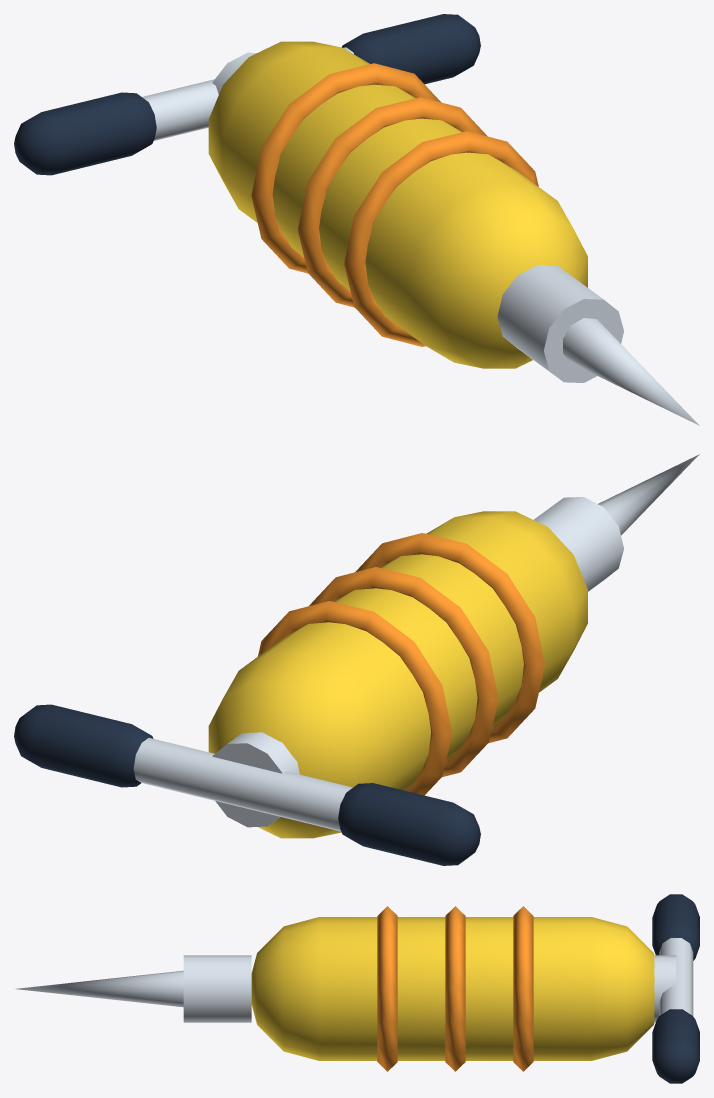
The model's file is Jackhammer.fbx.
The picture shows the model from 3 angles, top to bottom: view 1: azimuth 30°, elevation 25°; view 2: azimuth 150°, elevation 25°; view 3: azimuth 270°, elevation 25°; orthographic projection. The views are drawn at different scales.
Parts seen in each view (by area): view 1: Jackhammer; view 2: Jackhammer; view 3: Jackhammer.
Part boxes in pixels (left/top/right/bottom): Jackhammer: left=14, top=14, right=699, bottom=425; Jackhammer: left=14, top=454, right=699, bottom=865; Jackhammer: left=16, top=894, right=699, bottom=1083.
Bounding box in the file's own units: 0.456 × 0.195 × 0.808.
